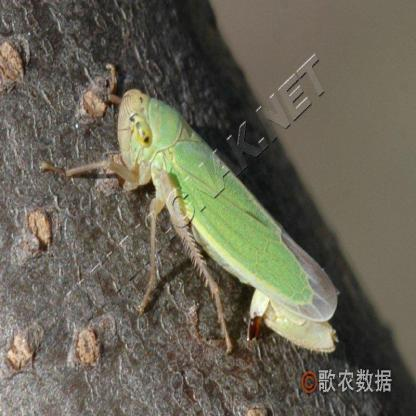Green-Leafhopper: (60, 63, 342, 339)
